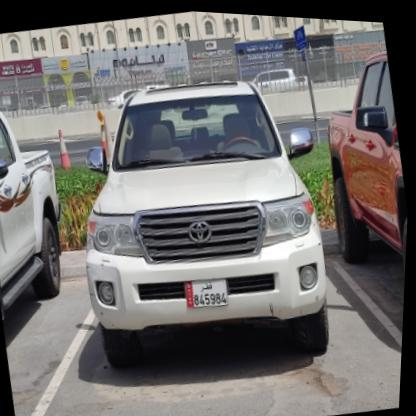np: (183, 268, 234, 311)
